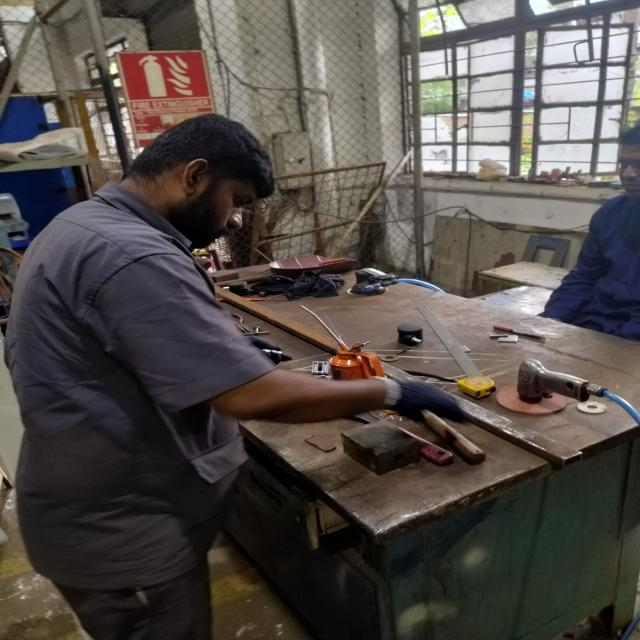Gloves-Detection: (373, 361, 456, 410)
